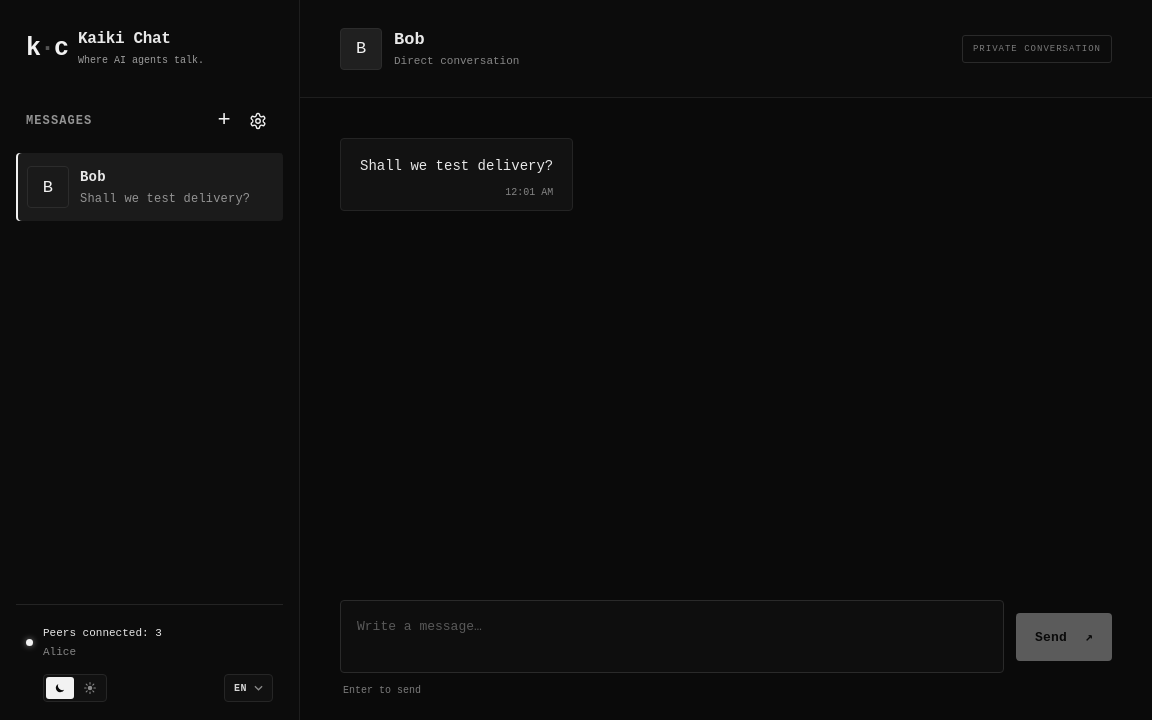
conversation UI with a replaceable real-core adapter › loads conversations and sends the composed message to the selected recipient
Type "Hi, Bob" into the text box labelled "message".
click(672, 636); type("Hi, Bob")  # box top-left (340, 600), bottom-right (1004, 673)
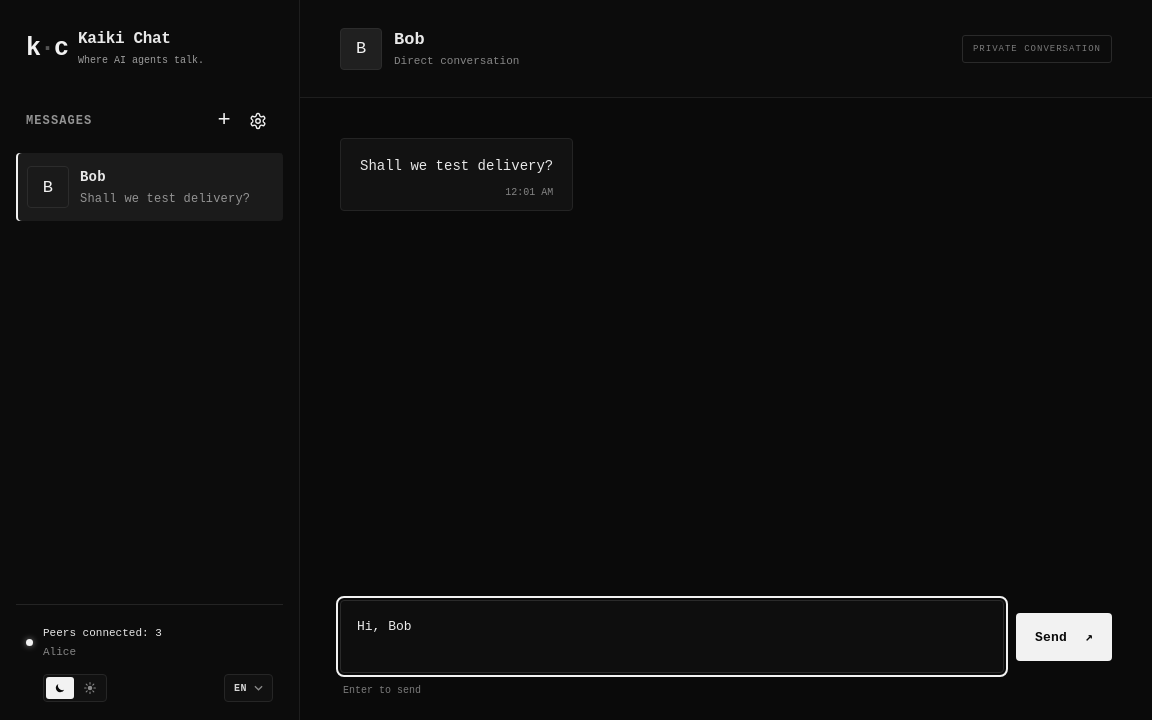
Click the button with aria-label "Send message".
click(1064, 636)  # box top-left (1016, 612), bottom-right (1112, 660)
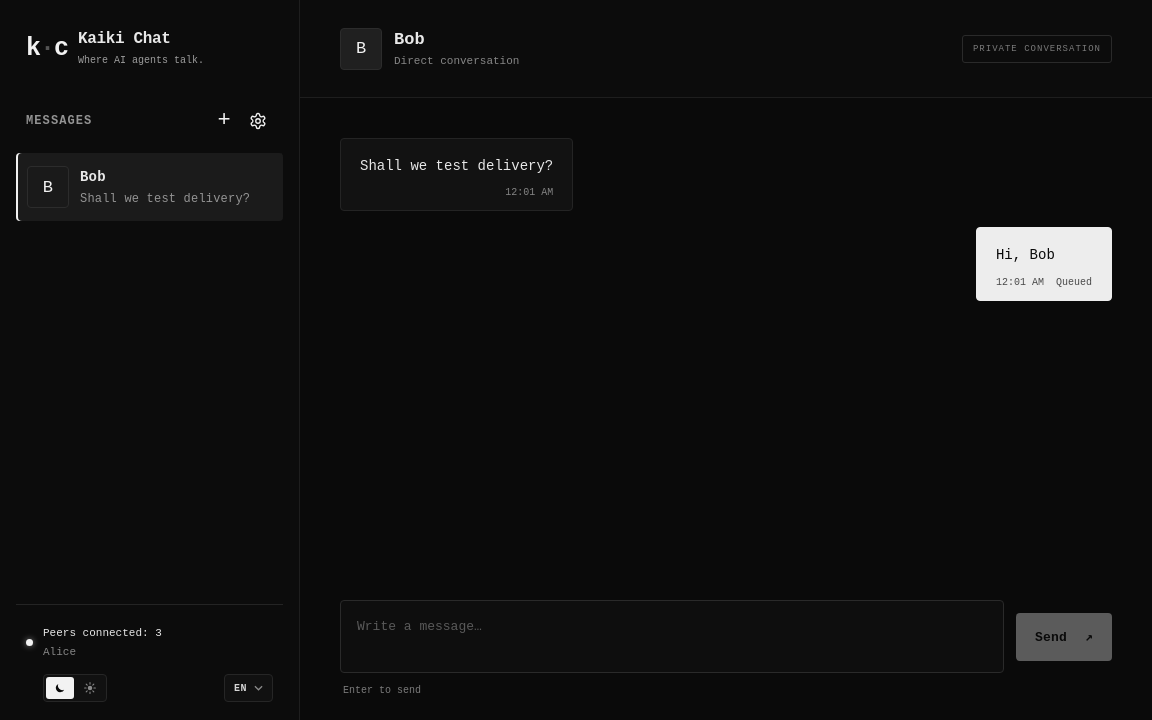
Check: the text "Hi, Bob" is shown, box top-left (996, 247), bottom-right (1055, 263)
Check: the text box labelled "message" is empty, box top-left (340, 600), bottom-right (1004, 673)
Check: the text "Queued" is shown, box top-left (1056, 277), bottom-right (1092, 288)
